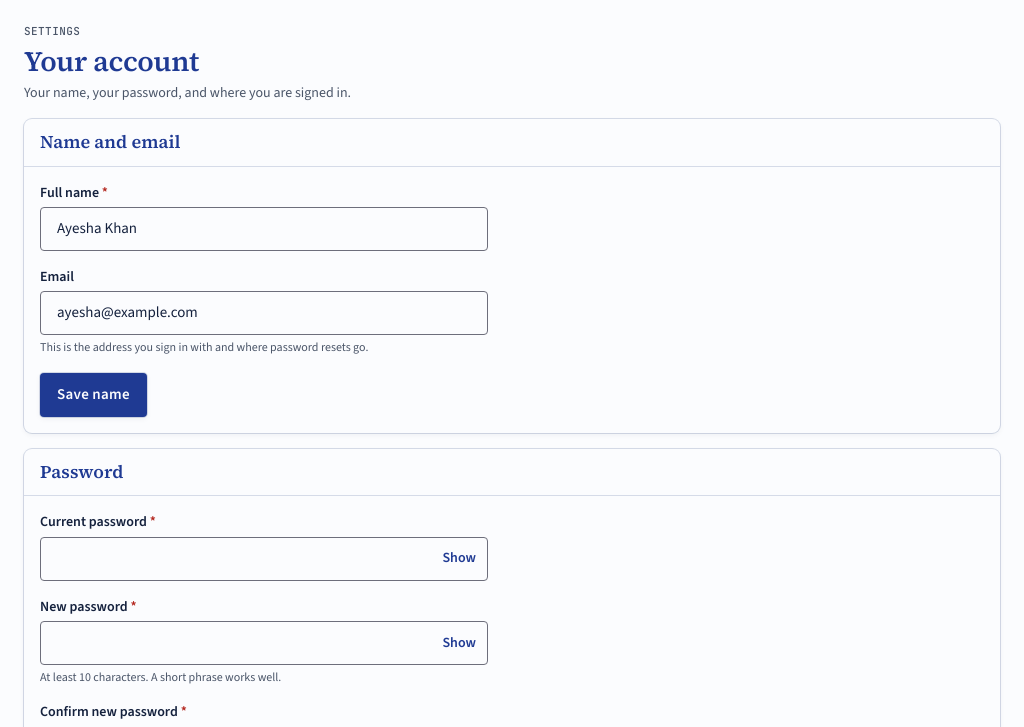
Scenario: AccountSettings › refuses reusing the current password without asking the server
Type "same passphrase 1" into the password field labelled "Current password *" at [264, 558], box [40,536,488,580]
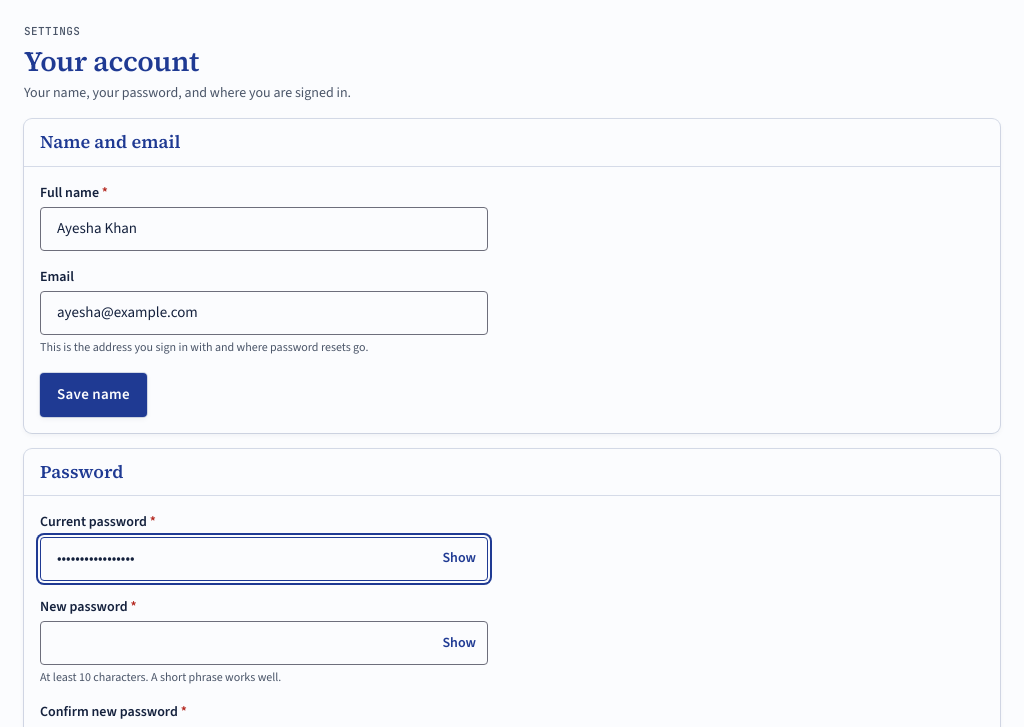
Type "same passphrase 1" into the password field labelled "New password *" at [264, 643], box [40,621,488,665]
(page scrolled)
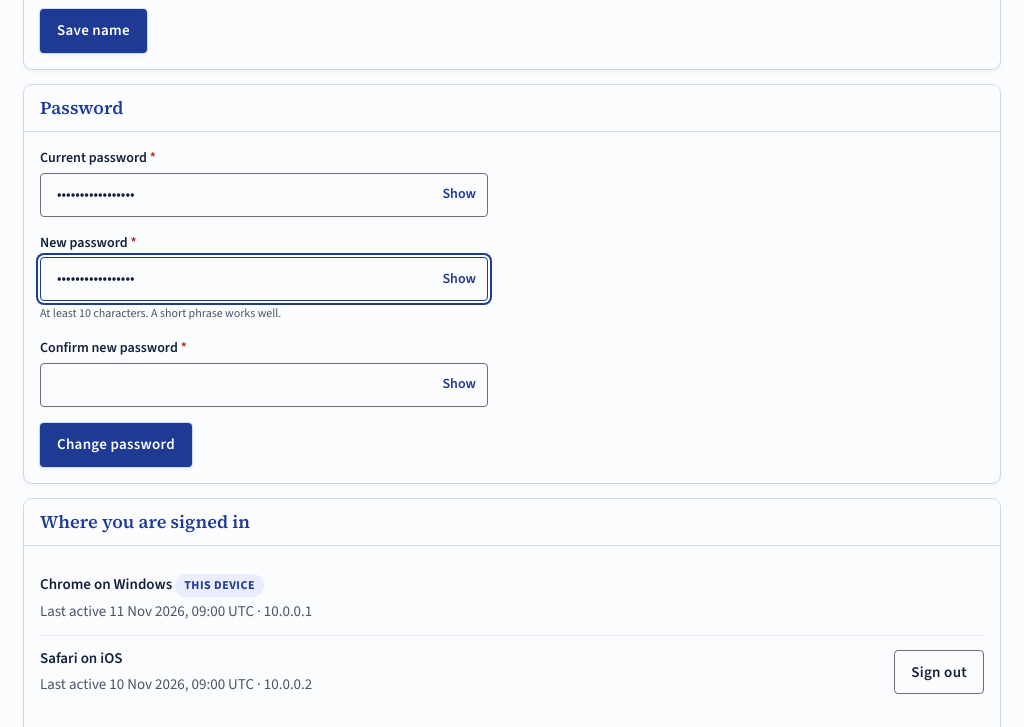
Type "same passphrase 1" into the password field labelled "Confirm new password *" at [264, 384], box [40,362,488,406]
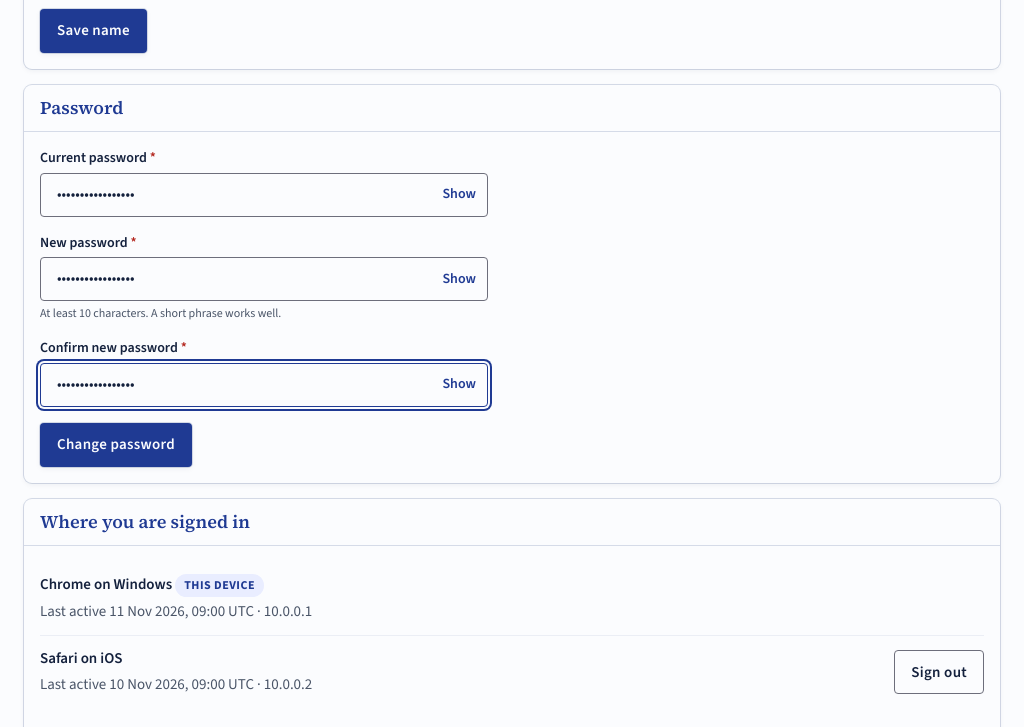
Click the button "Change password" at [116, 444], box [40,422,192,466]
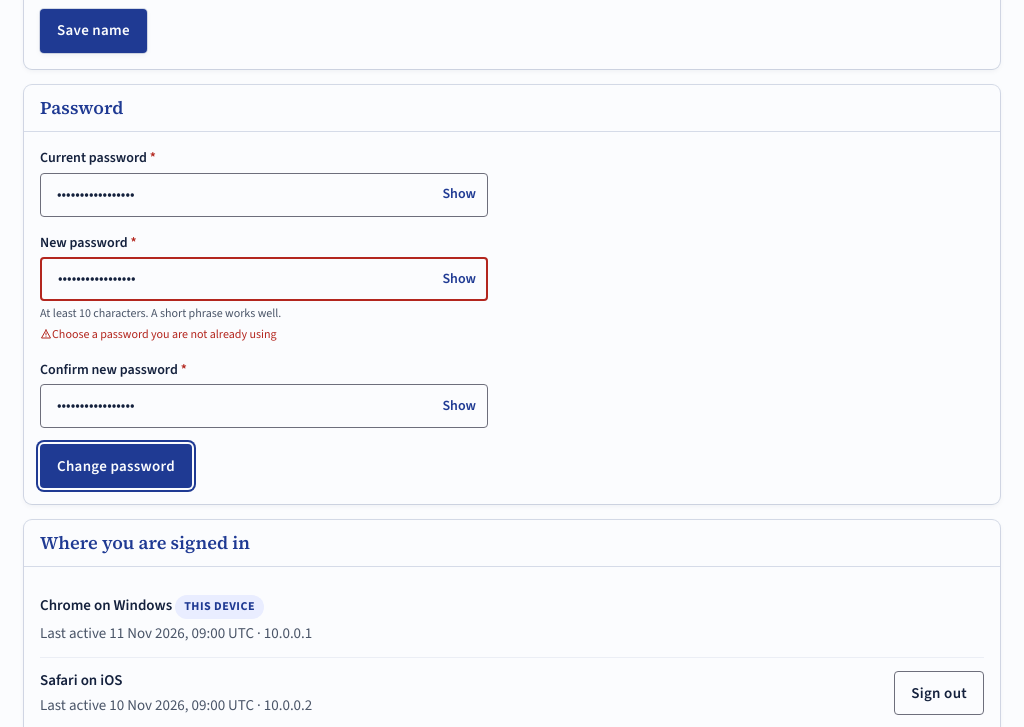
Expected: the text "Choose a password you are not already using" is shown, [40,326,276,342]
